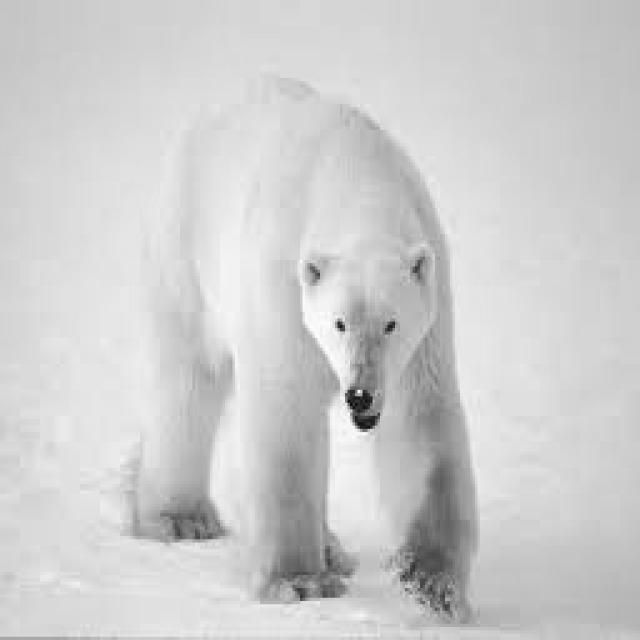Bear: (119, 88, 491, 610)
